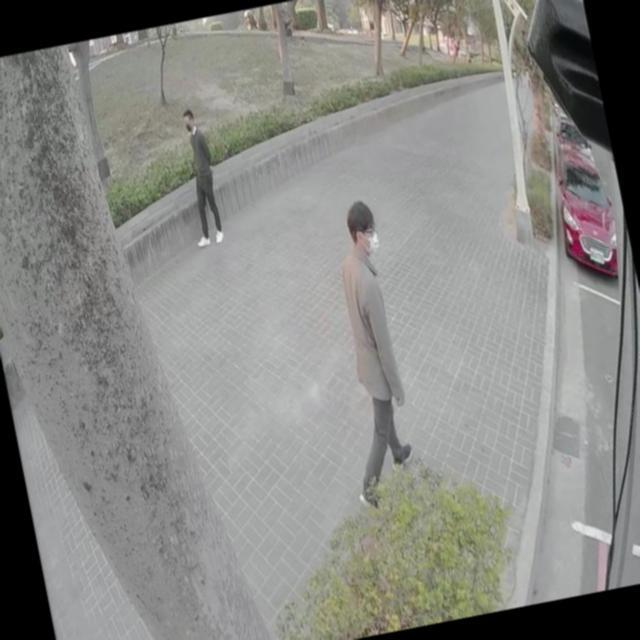person: (302, 199, 429, 510), (176, 109, 229, 247)
